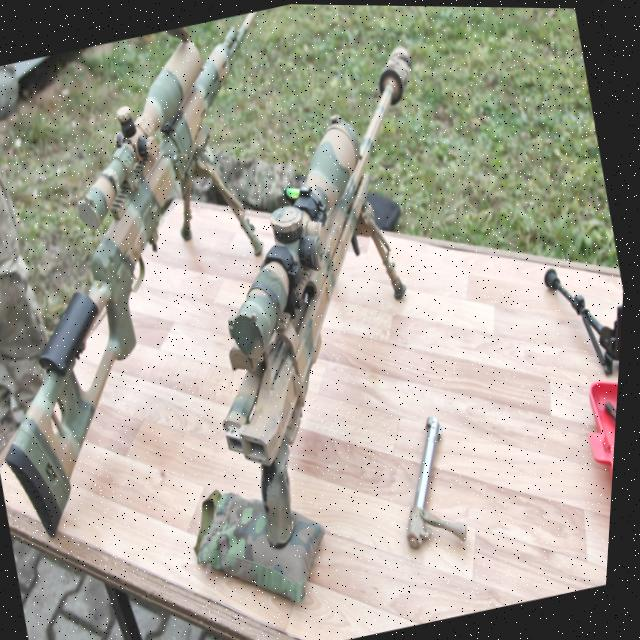firearm: (0, 0, 387, 547), (141, 35, 515, 559)
